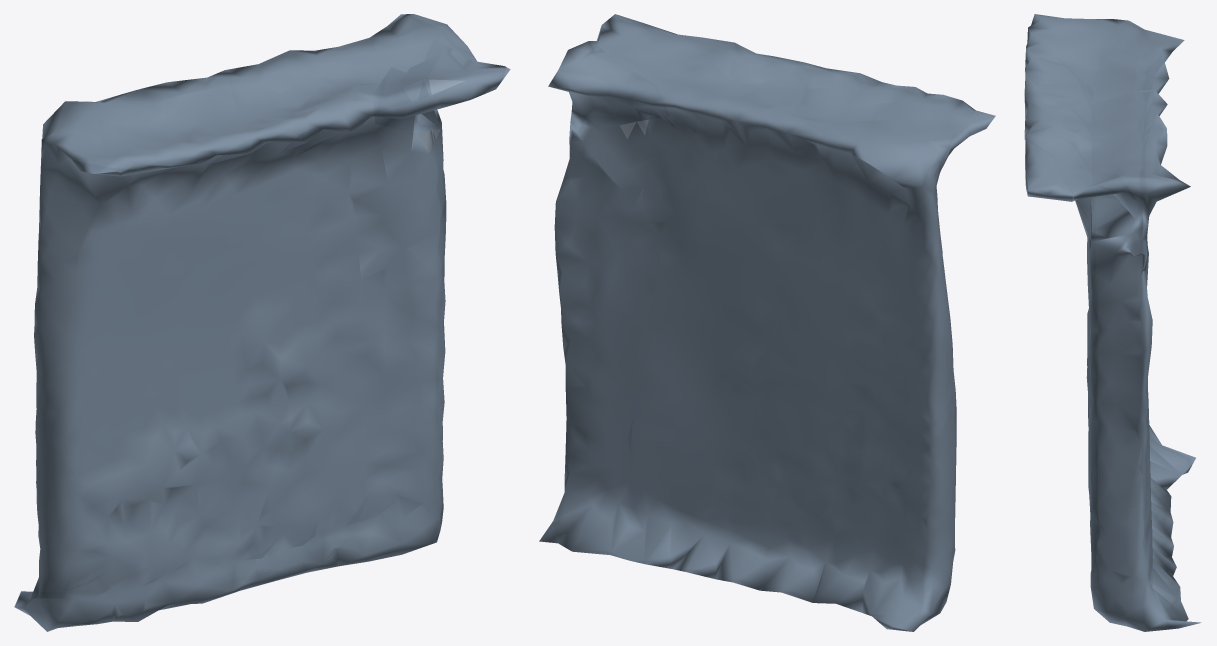
Rendered from bed_0600_recon.obj.
3 views of the same model, side by side, from view 1: azimuth 30°, elevation 25°; view 2: azimuth 150°, elevation 25°; view 3: azimuth 270°, elevation 25° (orthographic). The views are drawn at different scales.
Size of the model in its own units: 1.27 by 1.49 by 0.5221.
